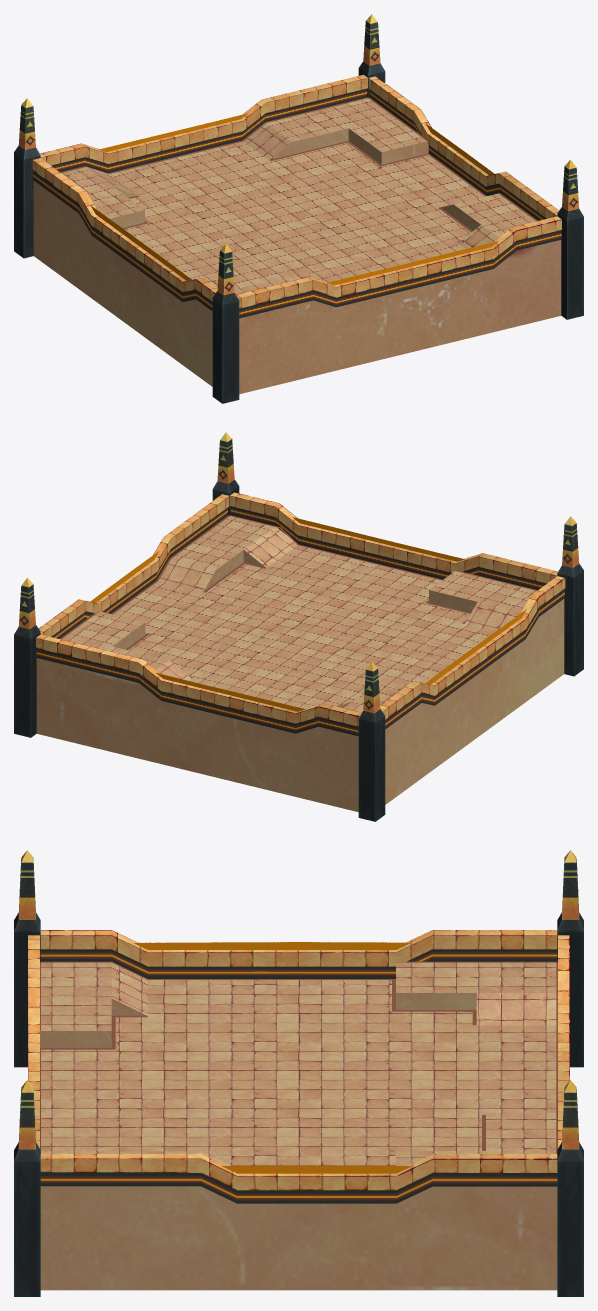
File: Battle_Stage 43.fbx
The picture shows the model from 3 angles, top to bottom: view 1: azimuth 30°, elevation 25°; view 2: azimuth 150°, elevation 25°; view 3: azimuth 270°, elevation 25°; orthographic projection. The views are drawn at different scales.
Parts seen in each view (by area): view 1: Platform_Cube, CR_Platform_Cube.070, CR_Platform_Cube.074, Plane.186, Platform_Cube.001; view 2: Platform_Cube, CR_Platform_Cube.070, CR_Platform_Cube.074, Plane.186, Platform_Cube.001; view 3: Platform_Cube, CR_Platform_Cube.070, CR_Platform_Cube.074, Plane.186, Platform_Cube.001.
Boxes of the visible parts, x1,y1,x2,y2 form: Platform_Cube: [33, 98, 561, 394]; CR_Platform_Cube.070: [32, 74, 561, 318]; CR_Platform_Cube.074: [14, 14, 583, 403]; Plane.186: [90, 113, 498, 285]; Platform_Cube.001: [60, 97, 537, 286]; Platform_Cube: [36, 516, 564, 812]; CR_Platform_Cube.070: [36, 492, 565, 736]; CR_Platform_Cube.074: [14, 432, 583, 821]; Plane.186: [90, 517, 526, 711]; Platform_Cube.001: [60, 515, 537, 678]; Platform_Cube: [40, 962, 557, 1290]; CR_Platform_Cube.070: [28, 930, 569, 1203]; CR_Platform_Cube.074: [14, 850, 583, 1296]; Plane.186: [134, 942, 411, 1173]; Platform_Cube.001: [40, 961, 557, 1153].
Size of the model in its own units: 5951 by 2434 by 5945.
